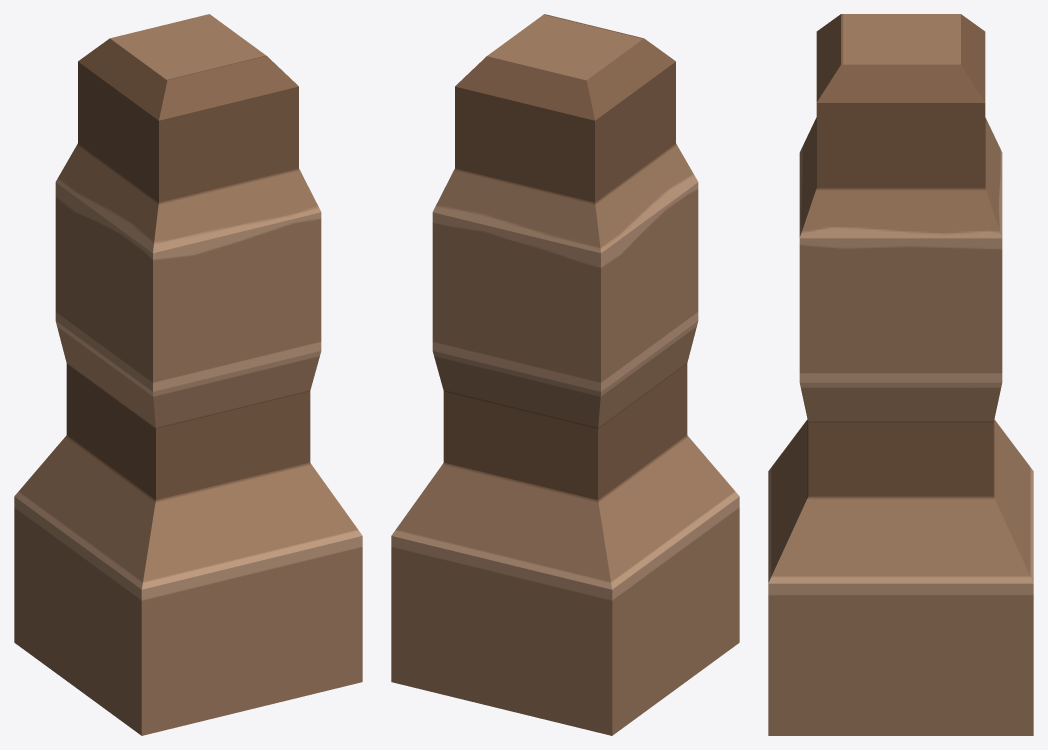
File: MayaPillar.fbx
3 views of the same model, side by side, from view 1: azimuth 30°, elevation 25°; view 2: azimuth 150°, elevation 25°; view 3: azimuth 270°, elevation 25° (orthographic). The views are drawn at different scales.
Visible parts, largest first — view 1: pCube1; view 2: pCube1; view 3: pCube1.
Part boxes in pixels (left/top/right/bottom): pCube1: left=14, top=14, right=362, bottom=735; pCube1: left=391, top=14, right=739, bottom=735; pCube1: left=768, top=14, right=1033, bottom=735.
Size of the model in its own units: 1.92 by 5.1 by 1.92.
1 material, 1 textured.
